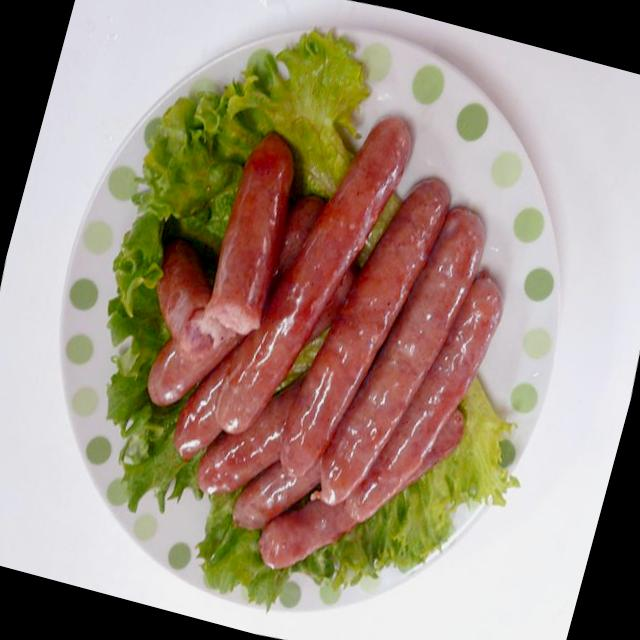Sausage: (102, 82, 557, 630)
